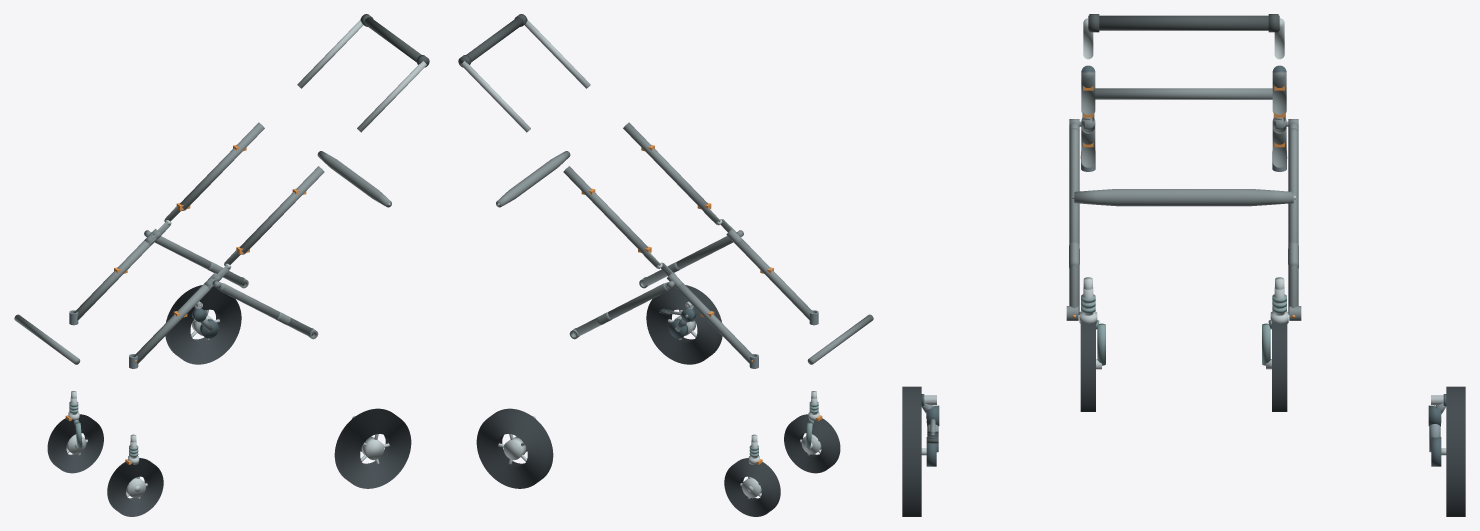
File: w550_state6.glb
3 views of the same model, side by side, from view 1: azimuth 30°, elevation 25°; view 2: azimuth 150°, elevation 25°; view 3: azimuth 270°, elevation 25° (orthographic). The views are drawn at different scales.
Visible parts, largest first — view 1: RL_tire.007, RR_tire.007, FL_tire.007, FR_tire.007, main_upper_-1.008, main_upper_1.008, main_lower_1.008, V46_rearbar.008, main_lower_-1.008, V46_rear_leg_-1.008, V46_rear_leg_1.008, round_handle.007 (+3 smaller); view 2: RR_tire.007, RL_tire.007, FR_tire.007, FL_tire.007, main_upper_1.008, main_upper_-1.008, main_lower_-1.008, V46_rearbar.008, main_lower_1.008, V46_rear_leg_1.008, V46_rear_leg_-1.008, round_handle.007 (+3 smaller); view 3: V46_rearbar.008, round_handle.007, RL_tire.007, RR_tire.007, front_fixed_round_tube.007, V46_rear_leg_1.008, V46_rear_leg_-1.008, FL_tire.007, FR_tire.007.
Boxes of the visible parts, box(x1,y1,x2,y2) form: RL_tire.007: box(334, 408, 411, 488); RR_tire.007: box(165, 285, 241, 364); FL_tire.007: box(107, 458, 163, 516); FR_tire.007: box(47, 414, 103, 473); main_upper_-1.008: box(239, 166, 324, 253); main_upper_1.008: box(180, 122, 264, 210); main_lower_1.008: box(73, 238, 155, 320); V46_rearbar.008: box(317, 151, 391, 207); main_lower_-1.008: box(133, 284, 212, 363); V46_rear_leg_-1.008: box(219, 283, 313, 335); V46_rear_leg_1.008: box(154, 236, 245, 286); round_handle.007: box(364, 17, 428, 66); RR_tire.007: box(476, 408, 553, 488); RL_tire.007: box(646, 285, 722, 364); FR_tire.007: box(724, 458, 780, 516); FL_tire.007: box(784, 414, 840, 473); main_upper_1.008: box(563, 166, 648, 253); main_upper_-1.008: box(623, 122, 707, 210); main_lower_-1.008: box(732, 238, 814, 320); V46_rearbar.008: box(496, 151, 570, 207); main_lower_1.008: box(675, 284, 754, 363); V46_rear_leg_1.008: box(574, 283, 668, 335); V46_rear_leg_-1.008: box(642, 236, 733, 286); round_handle.007: box(459, 17, 523, 66); V46_rearbar.008: box(1074, 189, 1293, 206); round_handle.007: box(1088, 15, 1279, 30); RL_tire.007: box(902, 386, 921, 516); RR_tire.007: box(1446, 386, 1465, 516); front_fixed_round_tube.007: box(1095, 88, 1272, 99); V46_rear_leg_1.008: box(1288, 128, 1298, 314); V46_rear_leg_-1.008: box(1069, 128, 1079, 314); FL_tire.007: box(1080, 322, 1095, 411); FR_tire.007: box(1272, 322, 1287, 411).
Size of the model in its own units: 1.51 by 1.57 by 1.3.
